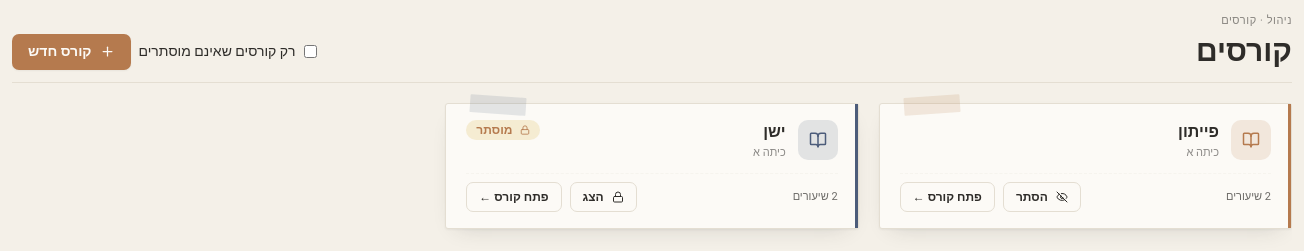
Test: CoursesPage visible-only filter › shows every course, hidden ones included, until the filter is ticked
The width and height of the screenshot is (1304, 251).
Expected: the text "פייתון" is shown, [1178,120,1219,144]
Expected: the text "ישן" is shown, [763,120,786,144]
Click the checkbox labelled "רק קורסים שאינם מוסתרים": (310, 52) [304,45,317,58]
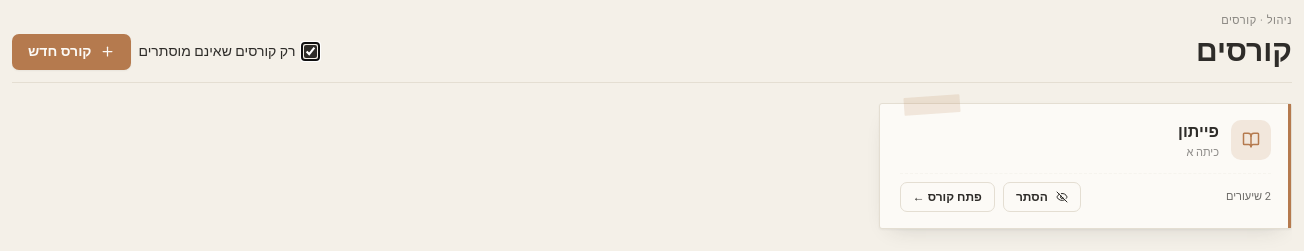
Expected: the text "פייתון" is shown, [1178,120,1219,144]
Now the text "ישן" is gone
